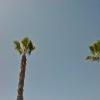Palm tree: (7, 28, 44, 92)
